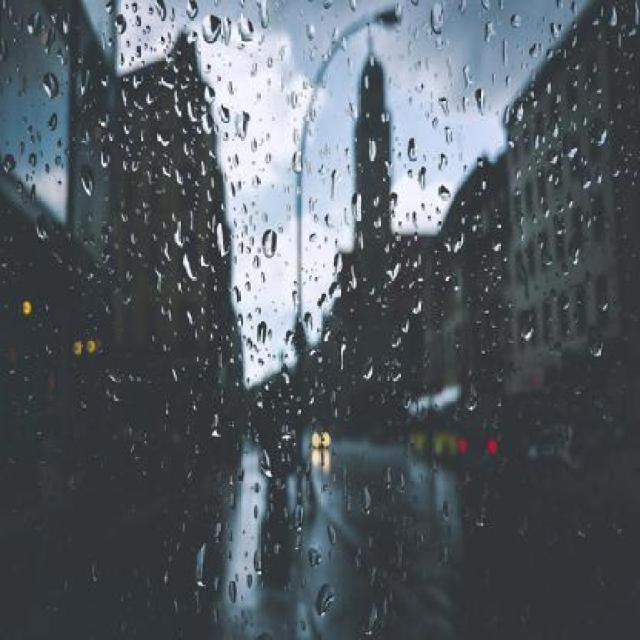raindrop: (186, 542, 231, 612), (357, 577, 405, 640), (300, 579, 348, 636), (21, 202, 66, 262), (0, 138, 41, 196), (506, 306, 544, 368), (253, 209, 291, 270), (352, 112, 394, 166), (435, 216, 472, 276), (368, 250, 414, 298), (160, 205, 200, 258), (579, 312, 614, 367), (208, 214, 242, 269), (332, 322, 362, 383), (298, 530, 332, 578), (138, 120, 184, 155), (26, 9, 58, 59), (35, 67, 71, 111), (71, 162, 105, 208), (290, 302, 332, 339), (246, 316, 283, 358), (428, 179, 466, 218), (246, 304, 274, 356), (294, 11, 326, 55), (174, 253, 210, 292), (592, 118, 620, 168), (426, 3, 456, 49), (313, 277, 359, 306), (194, 15, 233, 49), (256, 227, 291, 264), (207, 348, 242, 383), (112, 9, 140, 52), (504, 92, 534, 132), (210, 412, 238, 454), (598, 3, 628, 42), (397, 124, 427, 162), (232, 104, 255, 150), (477, 18, 505, 48), (474, 84, 496, 122), (328, 246, 356, 275), (412, 166, 436, 193), (428, 96, 453, 120)
